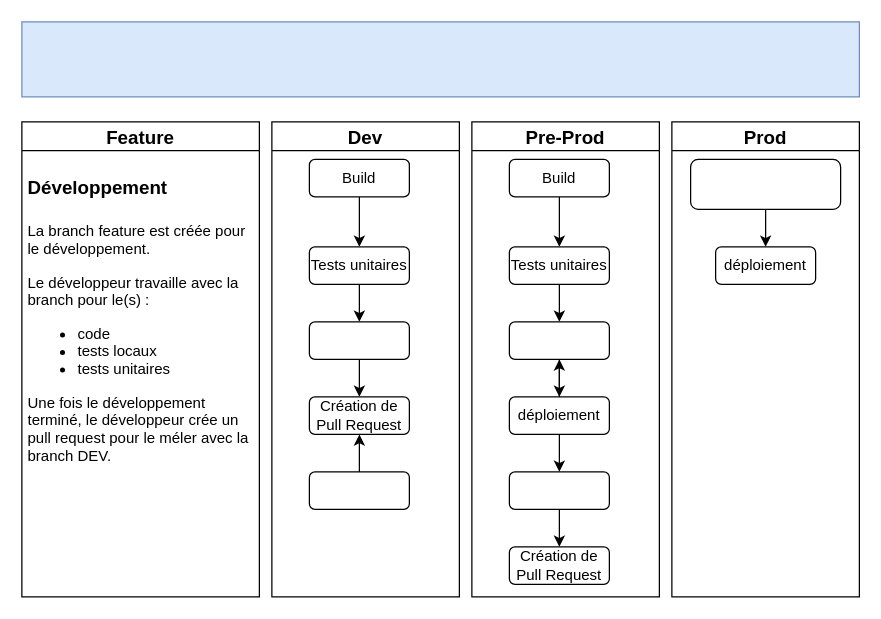
Image size: 881x619. Some labels were removed from this diagram. The shapes that lost their labels are listed below. From the top down, each one's centre as x and y in pixels, then its label:
At [440,59]: "Example de workflow CD-CI (Branch et actions liés aux pipelines)".
At [765,183]: "Versionnage de l'artefact à livrer".
At [358,340]: "Scan (code, secrets, etc)".
At [558,340]: "Tests d'acceptation".
At [358,490]: "déploiement (facultatif)".
At [558,490]: "Mise en scène (staging)".
